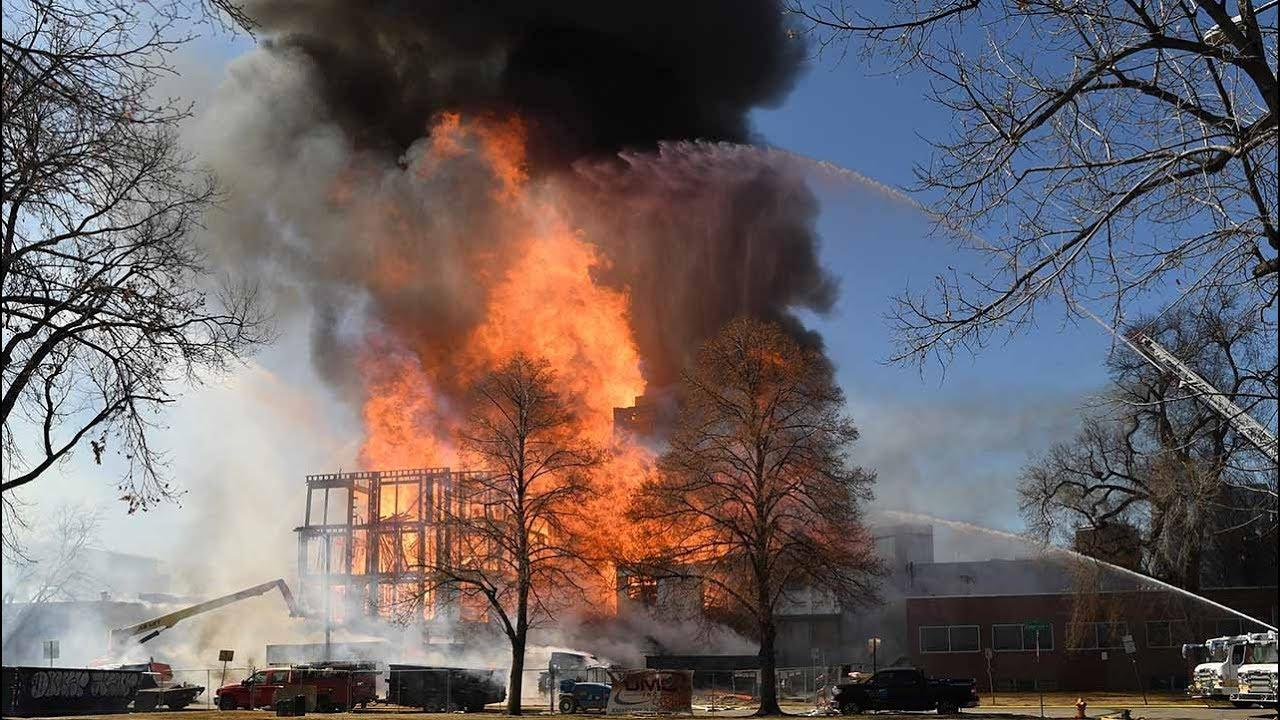Fire: (317, 110, 747, 624)
